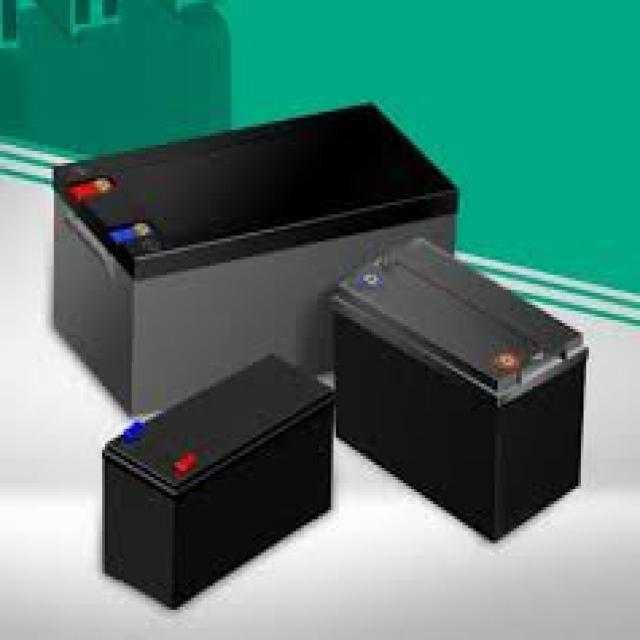battery: (47, 98, 456, 416), (338, 228, 584, 540), (100, 357, 336, 612)
